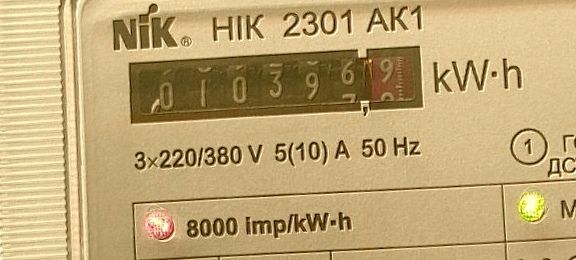0: (227, 71, 252, 106), (154, 77, 177, 111)
1: (195, 74, 211, 108)
3: (266, 67, 286, 101)
6: (336, 57, 359, 87)
9: (300, 68, 323, 102), (374, 55, 398, 86)
screen: (111, 26, 436, 145)
